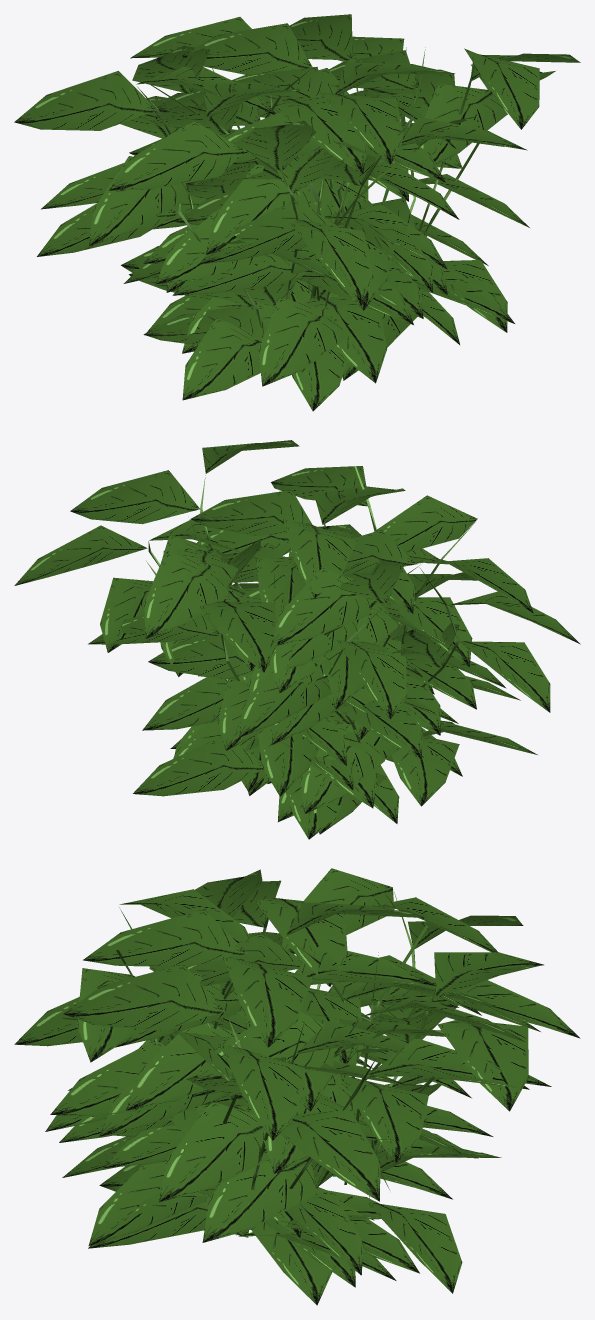
File: bush.fbx
3 views of the same model, one above another, from view 1: azimuth 30°, elevation 25°; view 2: azimuth 150°, elevation 25°; view 3: azimuth 270°, elevation 25° (orthographic). The views are drawn at different scales.
Visible parts, largest first — view 1: Bush; view 2: Bush; view 3: Bush.
Boxes of the visible parts, x1=… form: Bush: x1=14, y1=14, x2=580, y2=411; Bush: x1=14, y1=440, x2=580, y2=839; Bush: x1=14, y1=868, x2=580, y2=1305.
Bounding box in the file's own units: 389 × 200 × 314.
1 material, 1 textured.
